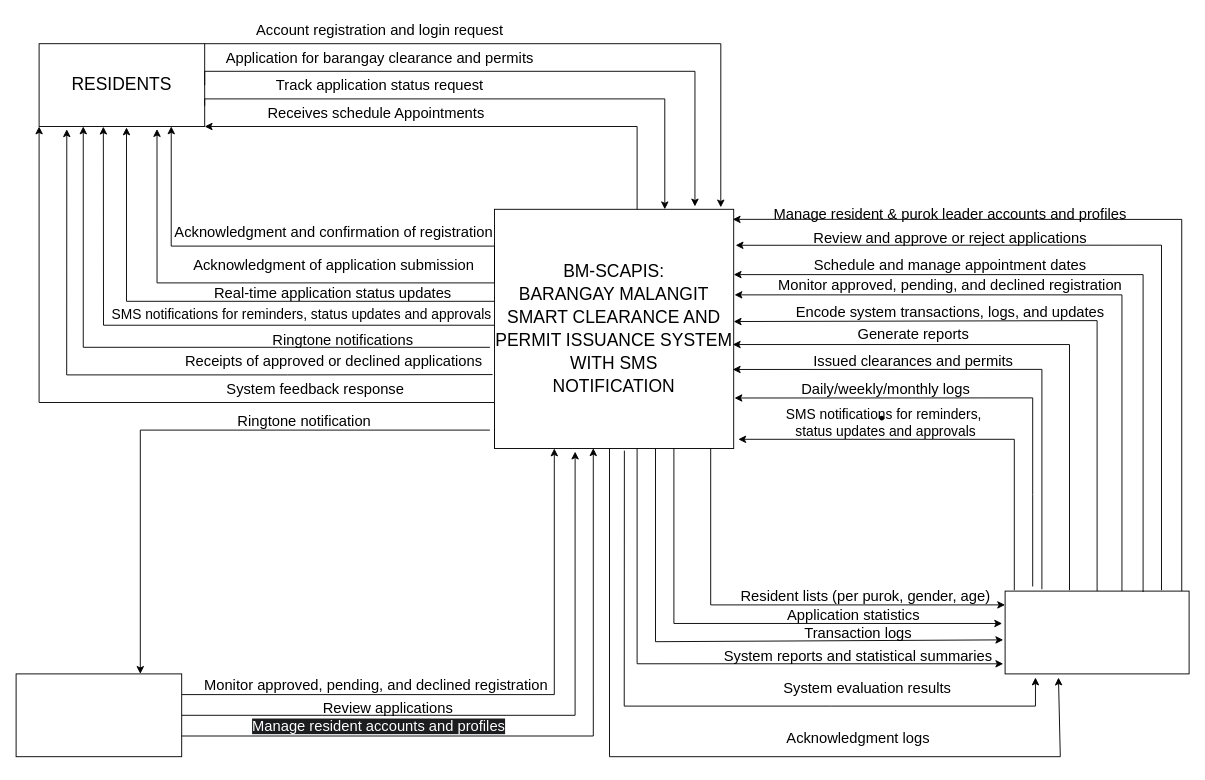
Image size: 1205x780. Some labels were removed from this diagram. Each missing label, with the centre of its shape:
"ADMIN" goes at [1096,632].
"PUROK LEADER" goes at [98,715].
